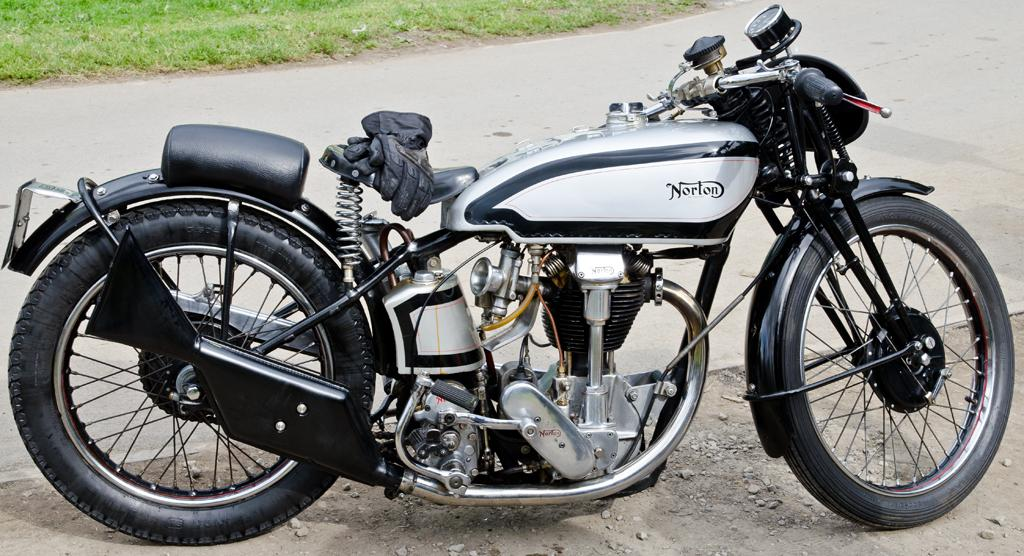Motorcycle: (0, 17, 967, 534)
